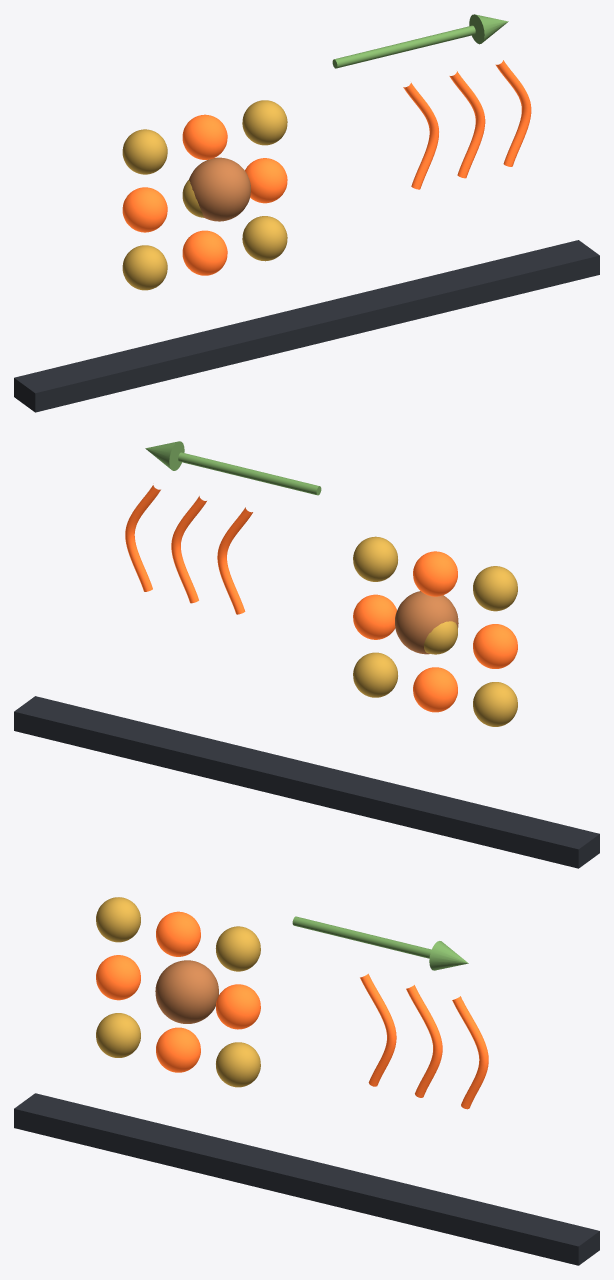
File: physics-p1-phase-change.glb
3 views of the same model, one above another, from view 1: azimuth 30°, elevation 25°; view 2: azimuth 150°, elevation 25°; view 3: azimuth 330°, elevation 25° (orthographic).
Visible parts, largest first — view 1: thermal-bench-reference-base, many-particles-total-thermal-energy-cluster, thermal-energy-particle-6, thermal-energy-particle-3, thermal-energy-particle-1, thermal-energy-particle-8, thermal-energy-particle-0, thermal-energy-particle-2, thermal-energy-particle-7, thermal-energy-particle-5, more-particles-more-total-energy-shaft, stored-random-motion-thermal-wave-2 (+3 smaller); view 2: thermal-bench-reference-base, many-particles-total-thermal-energy-cluster, thermal-energy-particle-1, thermal-energy-particle-2, thermal-energy-particle-7, thermal-energy-particle-3, thermal-energy-particle-0, thermal-energy-particle-6, thermal-energy-particle-8, thermal-energy-particle-5, more-particles-more-total-energy-shaft, stored-random-motion-thermal-wave-0 (+4 smaller); view 3: thermal-bench-reference-base, many-particles-total-thermal-energy-cluster, thermal-energy-particle-2, thermal-energy-particle-6, thermal-energy-particle-8, thermal-energy-particle-1, thermal-energy-particle-0, thermal-energy-particle-7, thermal-energy-particle-3, thermal-energy-particle-5, more-particles-more-total-energy-shaft, stored-random-motion-thermal-wave-2 (+3 smaller).
Part boxes in pixels (x1,y1,x2,y2): thermal-bench-reference-base: (14,240,599,412); many-particles-total-thermal-energy-cluster: (189,157,250,221); thermal-energy-particle-6: (122,129,167,174); thermal-energy-particle-3: (122,187,167,232); thermal-energy-particle-1: (182,230,227,275); thermal-energy-particle-8: (242,100,287,145); thermal-energy-particle-0: (122,245,167,290); thermal-energy-particle-2: (242,216,287,261); thermal-energy-particle-7: (182,114,227,159); thermal-energy-particle-5: (245,158,287,203); more-particles-more-total-energy-shaft: (332,25,475,68); stored-random-motion-thermal-wave-2: (495,60,531,166); thermal-bench-reference-base: (14,696,599,868); many-particles-total-thermal-energy-cluster: (395,591,458,654); thermal-energy-particle-1: (413,667,457,712); thermal-energy-particle-2: (353,652,397,697); thermal-energy-particle-7: (413,551,457,596); thermal-energy-particle-3: (473,624,517,668); thermal-energy-particle-0: (473,682,517,726); thermal-energy-particle-6: (473,566,517,611); thermal-energy-particle-8: (353,536,397,581); thermal-energy-particle-5: (353,594,396,639); more-particles-more-total-energy-shaft: (178,452,321,495); stored-random-motion-thermal-wave-0: (217,507,252,614); thermal-bench-reference-base: (14,1093,599,1265); many-particles-total-thermal-energy-cluster: (155,960,218,1023); thermal-energy-particle-2: (216,1042,260,1087); thermal-energy-particle-6: (96,897,140,942); thermal-energy-particle-8: (215,926,260,971); thermal-energy-particle-1: (156,1027,200,1072); thermal-energy-particle-0: (96,1013,140,1057); thermal-energy-particle-7: (156,911,200,956); thermal-energy-particle-3: (96,955,140,1000); thermal-energy-particle-5: (216,984,260,1029); more-particles-more-total-energy-shaft: (292,916,431,958); stored-random-motion-thermal-wave-2: (452,996,488,1109).
Size of what is drawn, in the model's own units: 2.45 by 1.24 by 0.32.
